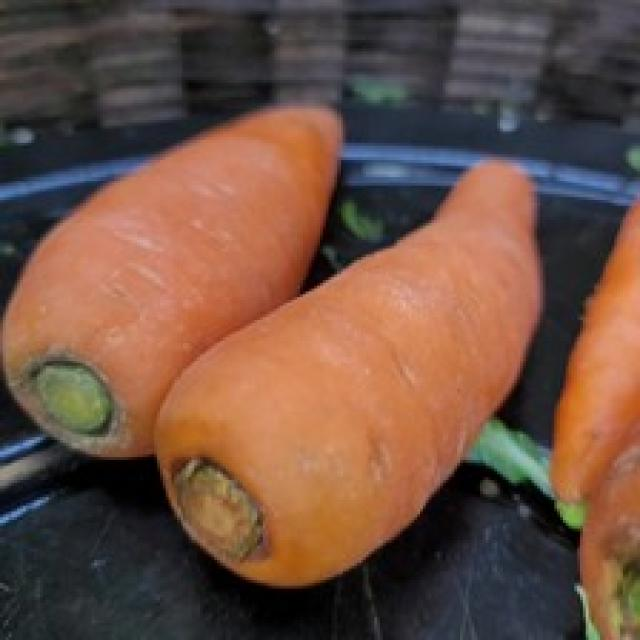Fresh_Carrot: (149, 150, 570, 579), (0, 93, 405, 528)
